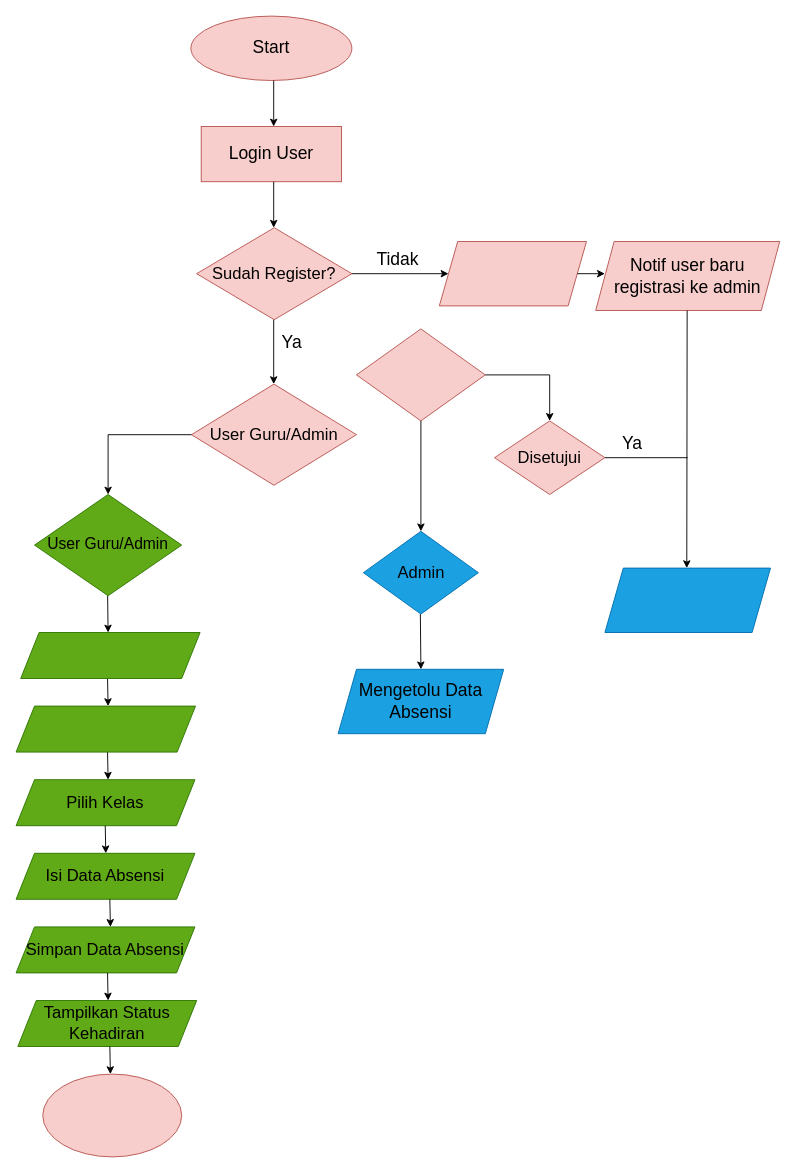
This 796x1173 diagram has some shape labels left out. Here are the shapes that lost their labels. From the top down, the box of each, then its label:
(438, 241, 586, 306): Register Akun
(356, 328, 485, 421): Admin?
(604, 567, 770, 632): Menyetujui User yang baru register
(20, 632, 200, 678): Buka Menu Absensi
(15, 705, 196, 752): Pilih Tanggal Absensi
(42, 1073, 182, 1157): End
